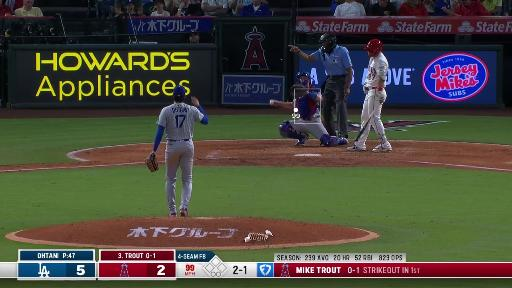pitcher: (145, 84, 209, 218)
